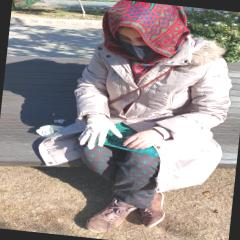gloved: (78, 113, 122, 152)
not-gloved: (124, 124, 168, 152)
